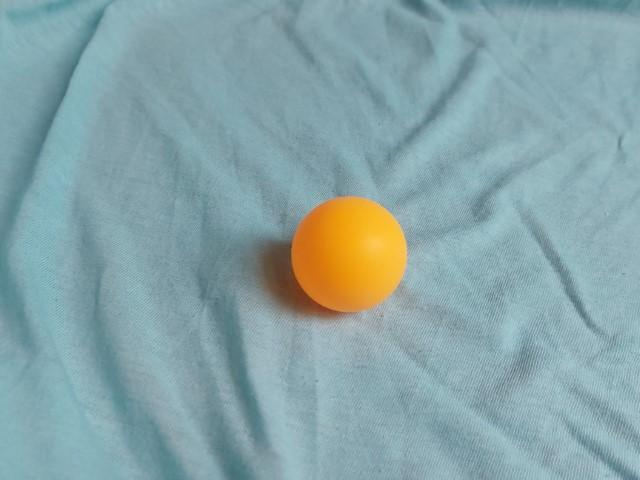oball: (286, 191, 414, 318)
